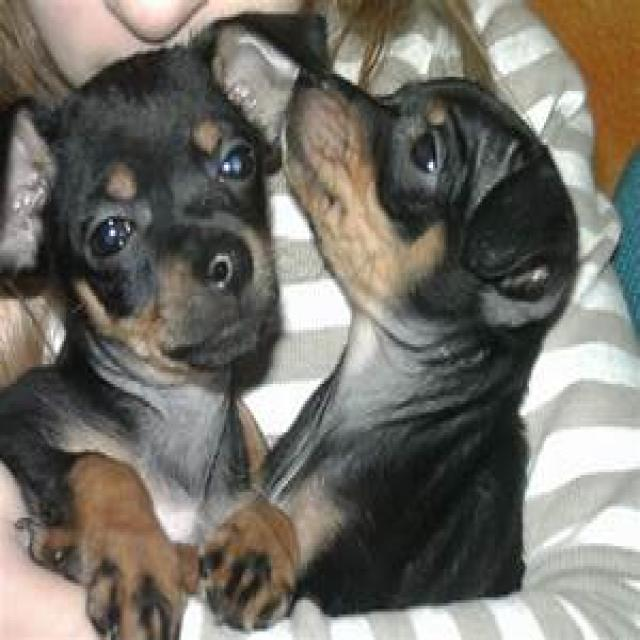animal: (252, 11, 580, 625), (0, 20, 286, 637)
